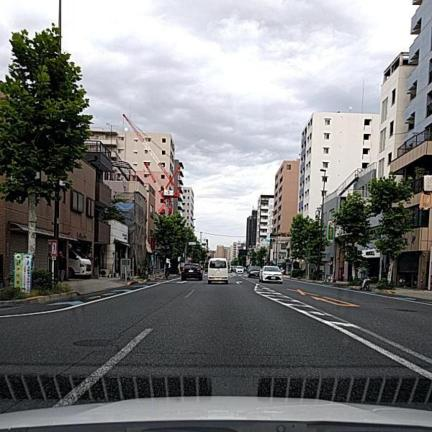Road: (0, 276, 431, 411)
